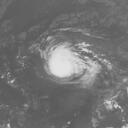cyclone: (43, 42, 107, 87)
